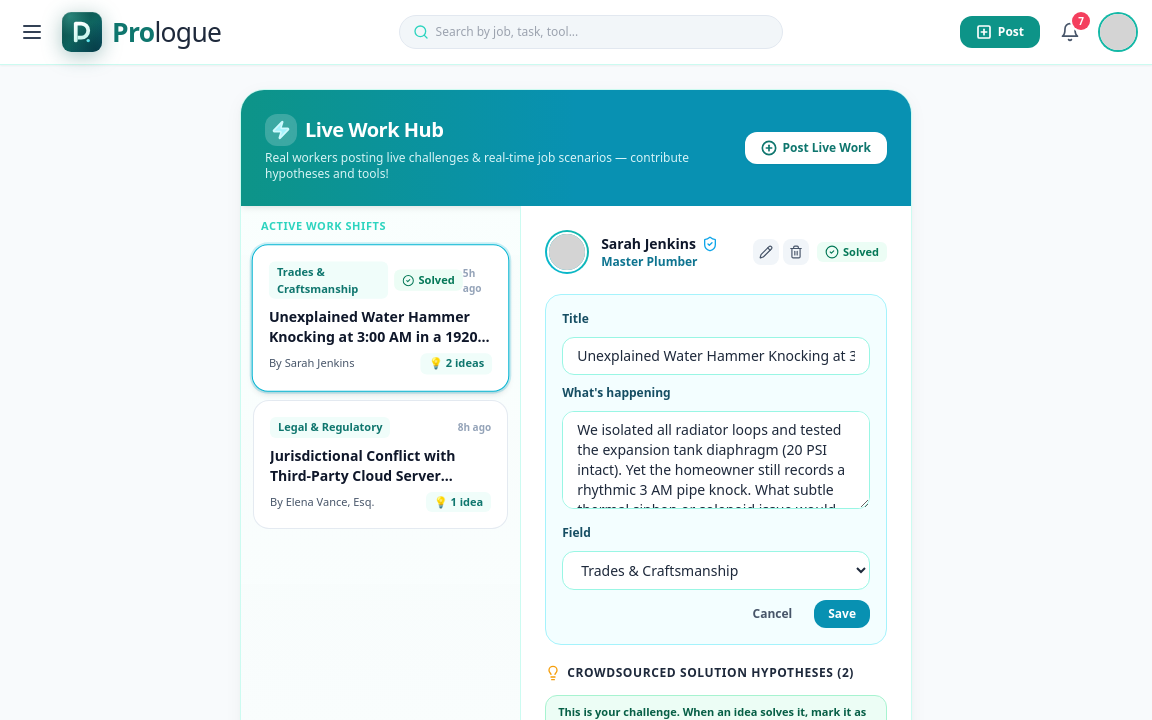
editing and deleting your own content › challenges and ideas: owner edits/deletes, authors edit their ideas
Earlier steps of the test are not shown.
Later steps or results of the test are not shown.
Replace the text in the field labelled "Title" with "Edited challenge title" at (716, 356), box [562,337,870,375]
Click the button "Save" at (842, 614), box [814,600,870,628]
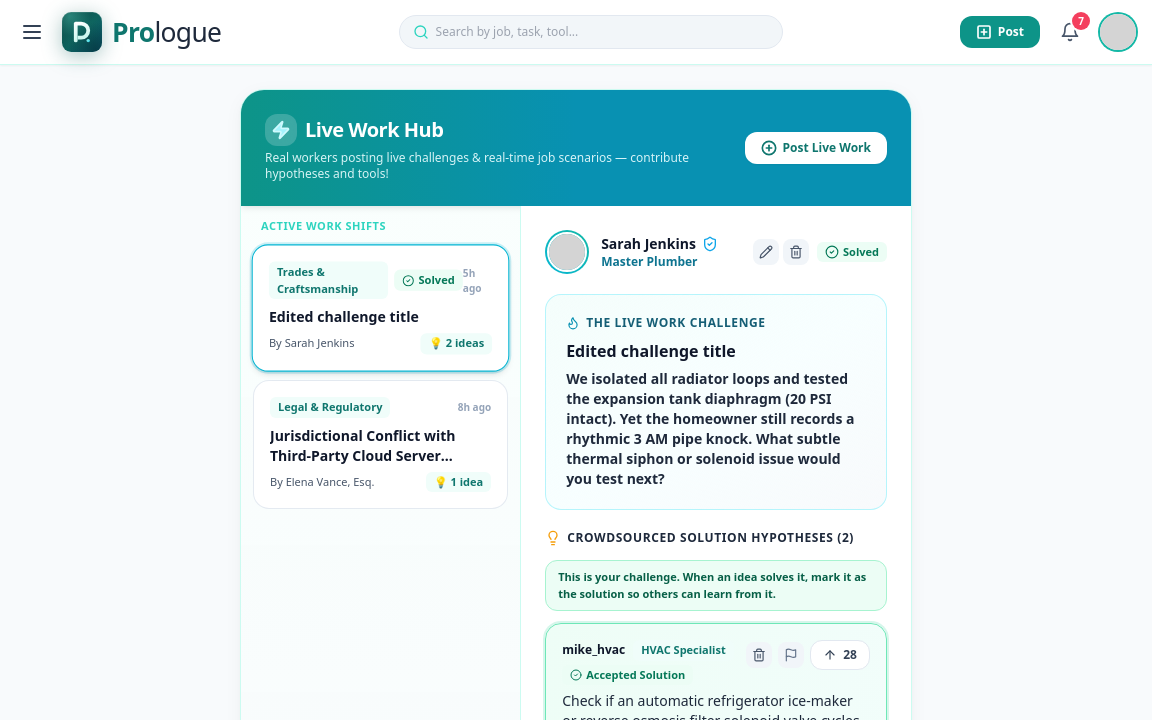
Expected: the text "Solved" next to "Trades & Craftsmanship" is shown, [418,271,455,286]
Expected: the heading "Edited challenge title" below "5h ago" is shown, [269,306,419,326]
Click the button named "Delete idea" at (759, 655), box [746,642,772,668]
(page scrolled)
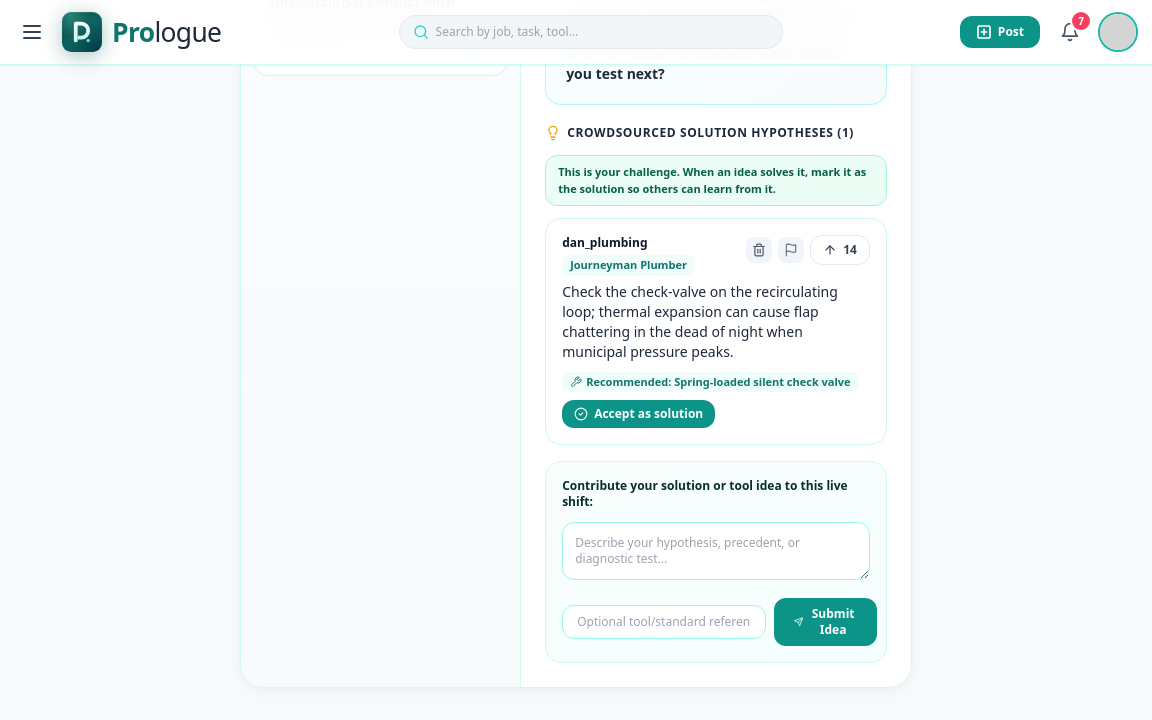
Expected: the number of buttons named "Delete idea" is 1, [746,237,772,263]
Type "My own idea" into the text box with placeholder "Describe your hypothesis, precedent, or diagnostic test..." at (716, 551), box [562,522,870,580]
Click the button "Submit Idea" at (826, 622), box [774,598,877,646]
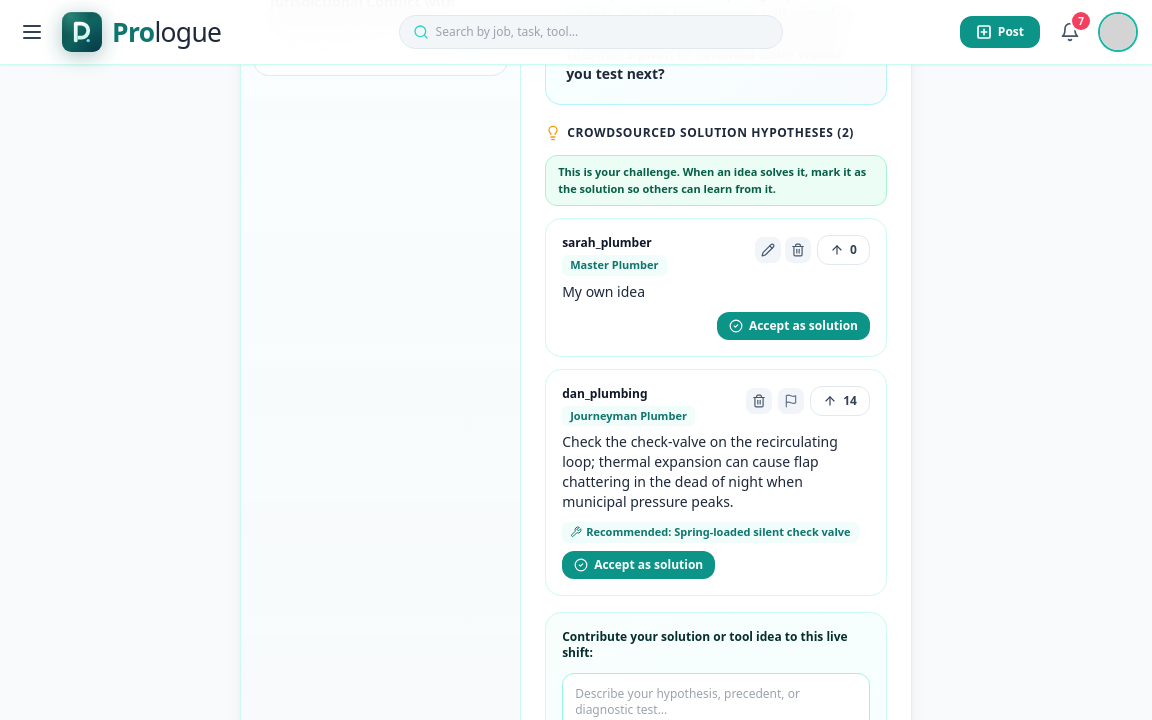
Expected: the text "My own idea" is shown, [562,282,645,300]
Click the button named "Edit idea" at (768, 250), box [755,237,781,263]
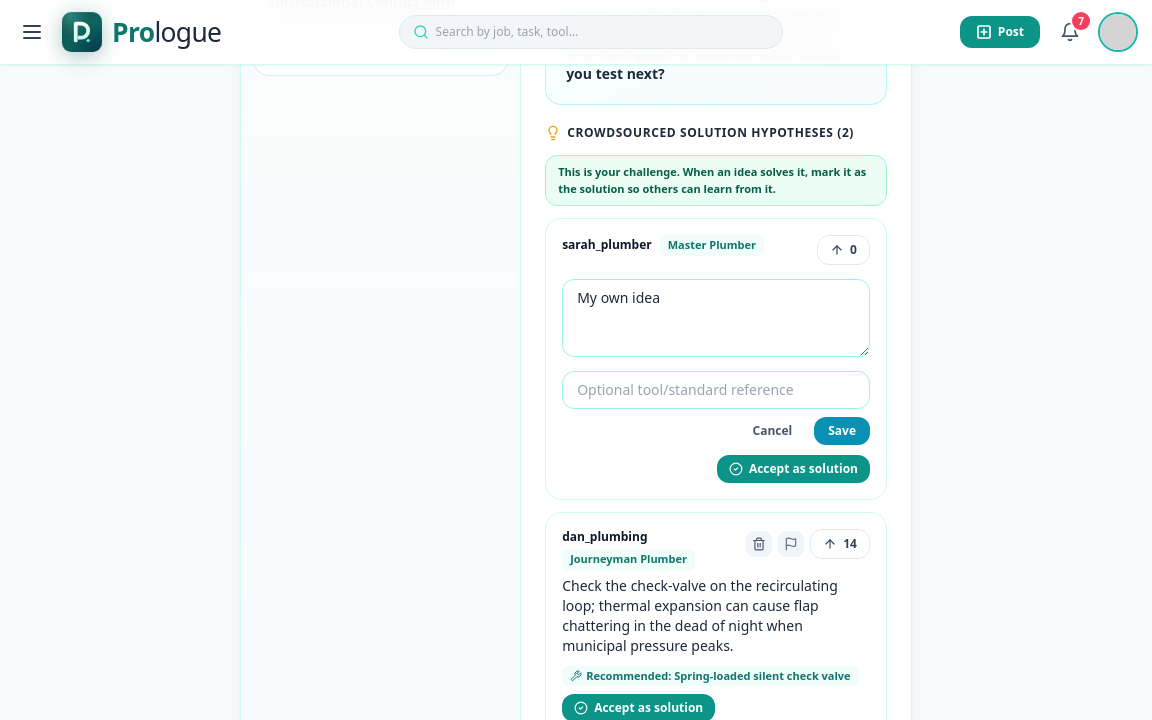
Replace the text in the text box named "Your idea" with "My better idea" at (716, 318), box [562,279,870,357]
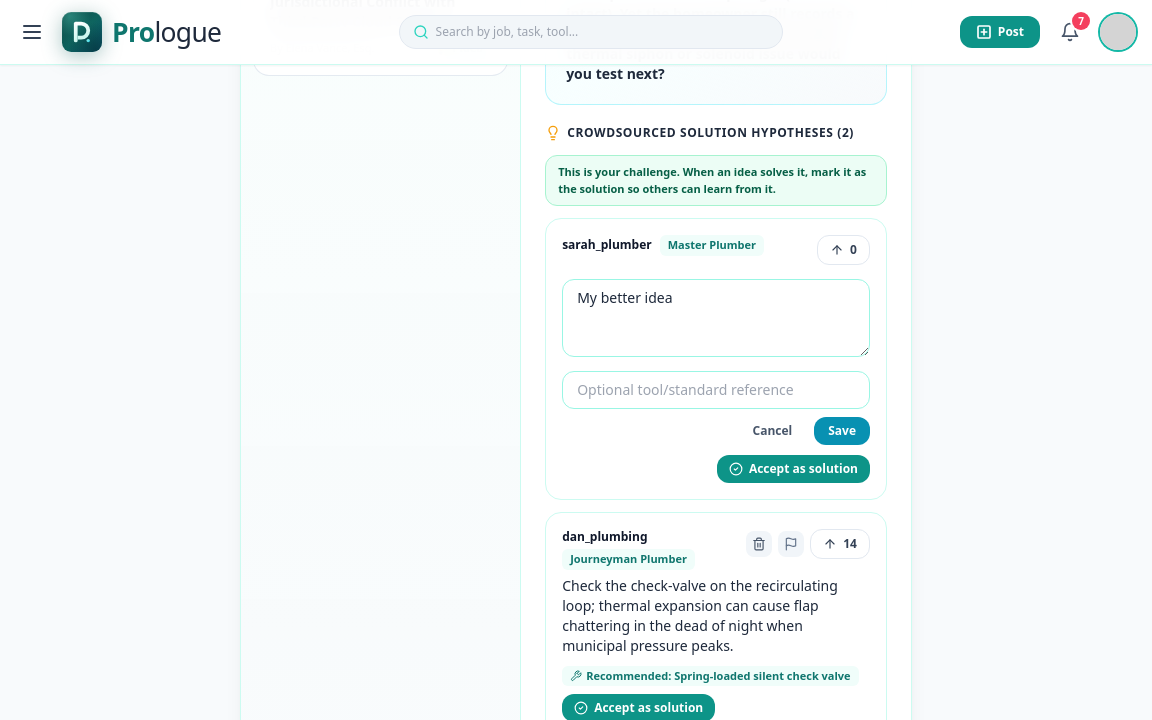
Click the button "Save" at (842, 431), box [814,417,870,445]
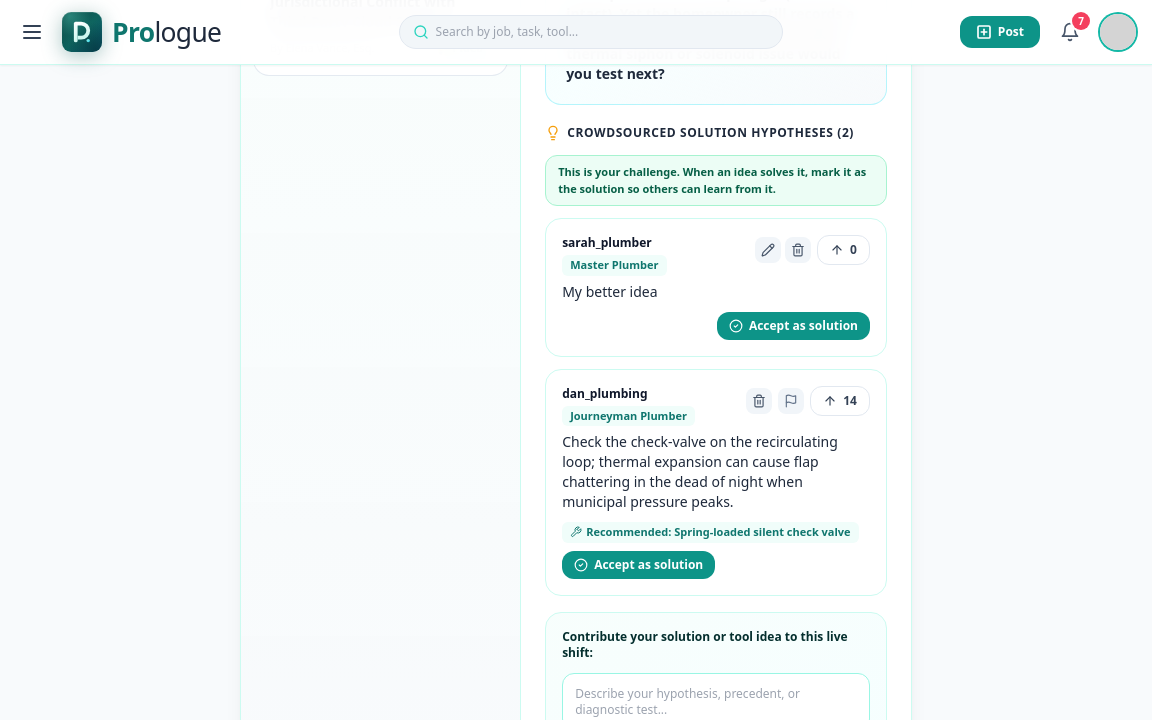
Expected: the text "My better idea" is shown, [562,282,658,300]
